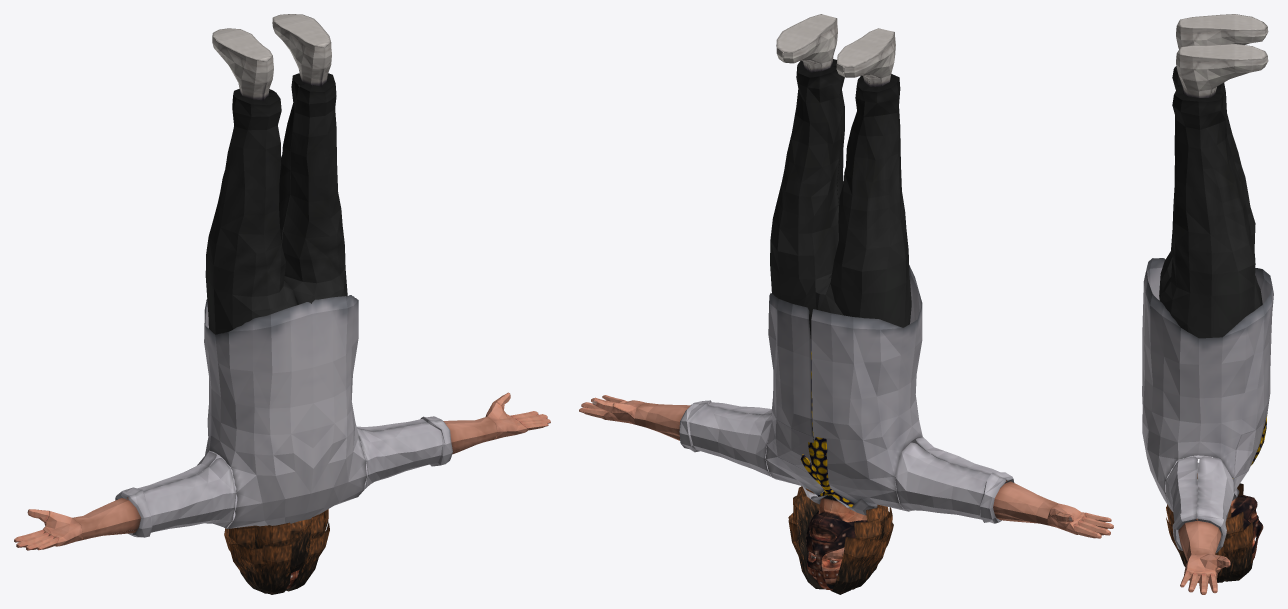
The model's file is Mankind.obj.
3 views of the same model, side by side, from view 1: azimuth 30°, elevation 25°; view 2: azimuth 150°, elevation 25°; view 3: azimuth 270°, elevation 25° (orthographic). The views are drawn at different scales.
Visible parts, largest first — view 1: 0; view 2: 0; view 3: 0.
Boxes of the visible parts, x1,y1,x2,y2 form: 0: (14,14,550,594); 0: (579,14,1113,594); 0: (1142,14,1273,594).
Bounding box in the file's own units: 98.62 × 98.14 × 21.72.
